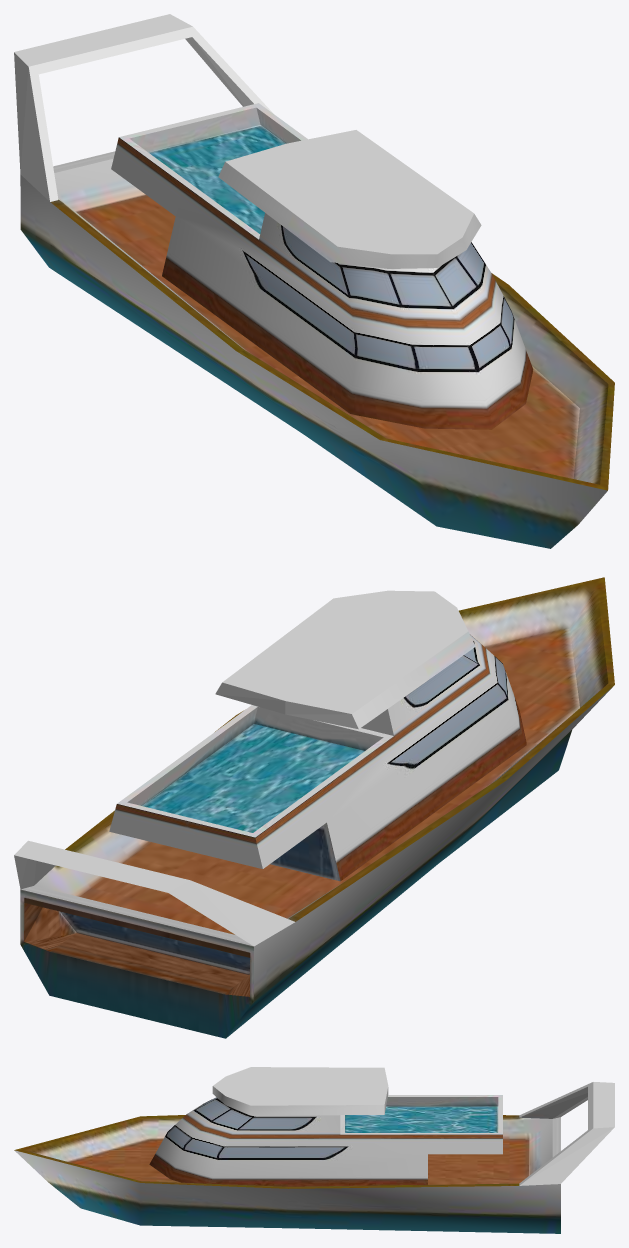
The picture shows the model from 3 angles, top to bottom: view 1: azimuth 30°, elevation 25°; view 2: azimuth 150°, elevation 25°; view 3: azimuth 270°, elevation 25°; orthographic projection. The views are drawn at different scales.
Parts seen in each view (by area): view 1: 5b21f0adcd18d02d045a5fae.001; view 2: 5b21f0adcd18d02d045a5fae.001; view 3: 5b21f0adcd18d02d045a5fae.001.
Boxes of the visible parts, x1,y1,x2,y2 form: 5b21f0adcd18d02d045a5fae.001: (14,14,614,548); 5b21f0adcd18d02d045a5fae.001: (14,577,614,1038); 5b21f0adcd18d02d045a5fae.001: (14,1067,614,1233).
Bounding box in the file's own units: 8.4 × 6.22 × 27.63.
1 material, 1 textured.
